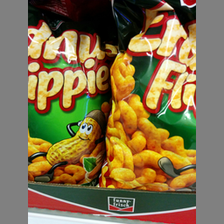chips: (103, 3, 195, 191), (28, 15, 112, 187)
